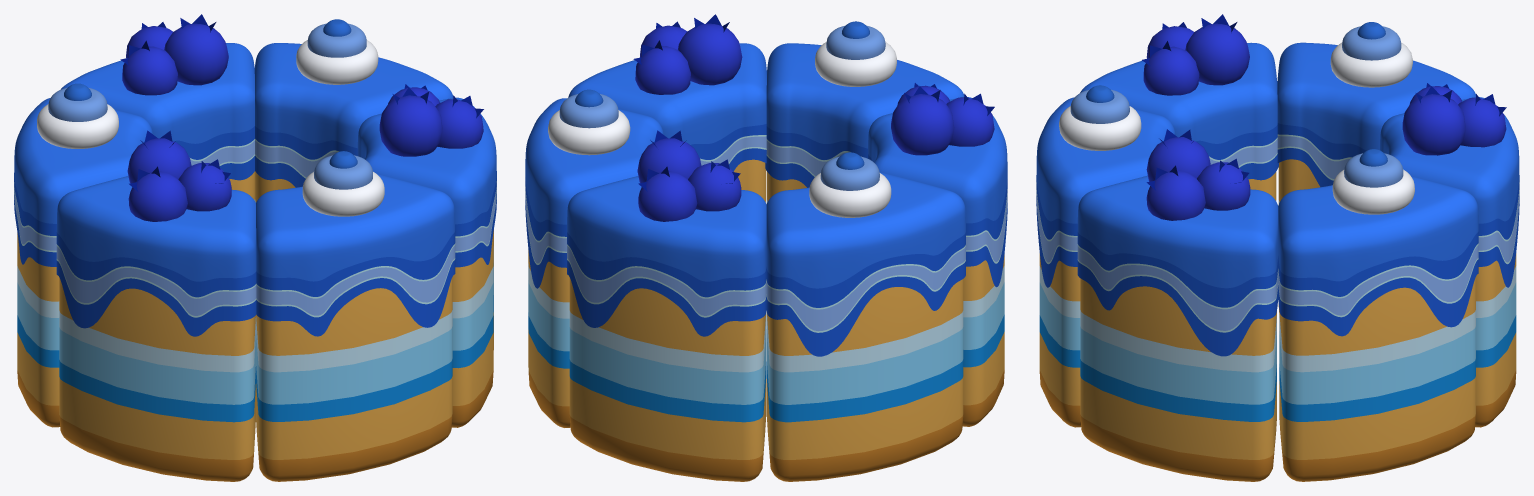
Rendered from BlueCake.fbx.
The picture shows the model from 3 angles, left to right: view 1: azimuth 30°, elevation 25°; view 2: azimuth 150°, elevation 25°; view 3: azimuth 270°, elevation 25°; orthographic projection.
Visible parts, largest first — view 1: Blue; view 2: Blue; view 3: Blue.
Part boxes in pixels (<box>): Blue: <box>14,14,496,481</box>; Blue: <box>525,14,1007,481</box>; Blue: <box>1036,14,1519,481</box>.
Bounding box in the file's own units: 58.44 × 40.88 × 58.76.
1 material, 1 textured.
